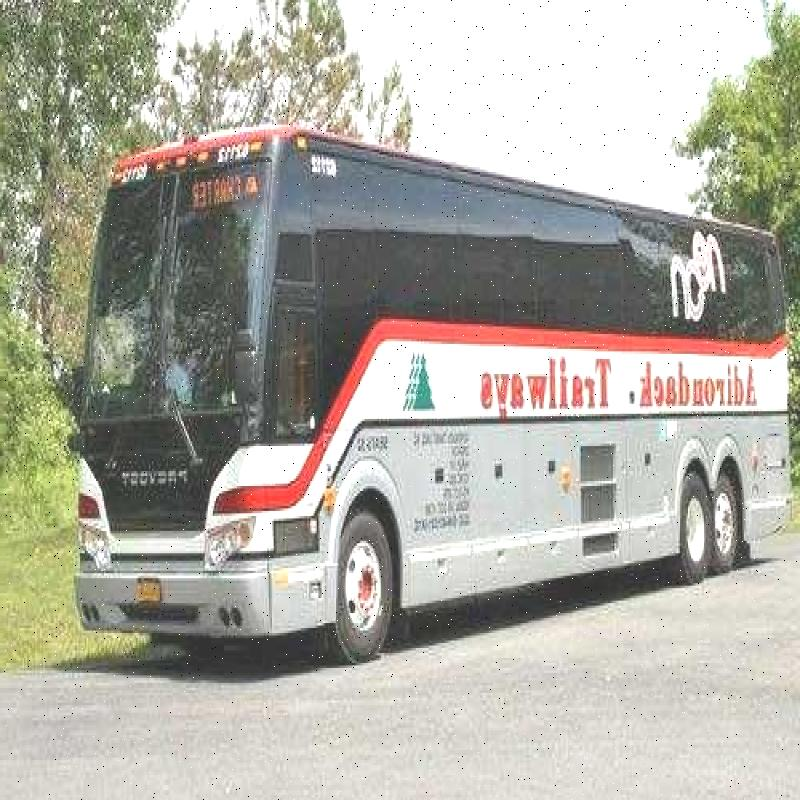bus: (44, 107, 786, 717)
